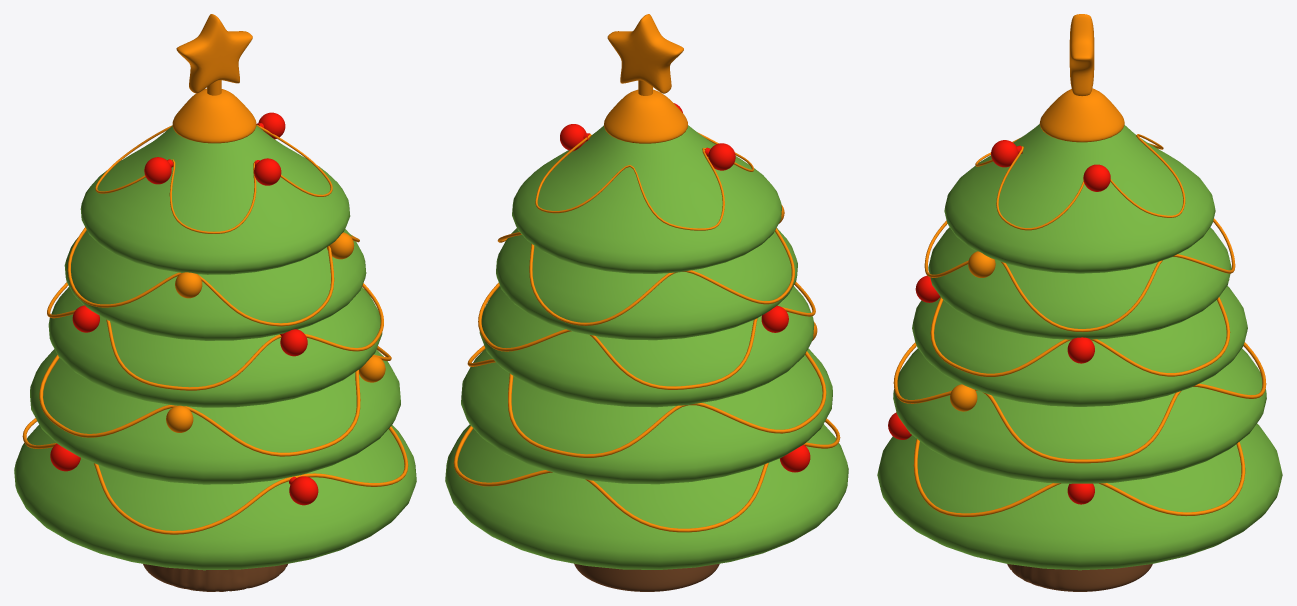
The model's file is Tree1.fbx.
The picture shows the model from 3 angles, left to right: view 1: azimuth 30°, elevation 25°; view 2: azimuth 150°, elevation 25°; view 3: azimuth 270°, elevation 25°; orthographic projection.
Visible parts, largest first — view 1: Cylinder.001, Cylinder.007, Cylinder.003, Cylinder.004, Cylinder.005, Cylinder.015, Star.001, Cylinder, Circle.003, Circle, Circle.004, Circle.005 (+10 smaller); view 2: Cylinder.001, Cylinder.007, Cylinder.003, Cylinder.004, Cylinder.005, Cylinder.015, Star.001, Cylinder, Circle.003, Circle, Circle.004, Circle.005 (+5 smaller); view 3: Cylinder.001, Cylinder.007, Cylinder.003, Cylinder.004, Cylinder.005, Cylinder.015, Cylinder, Circle.003, Star.001, Circle, Circle.005, Circle.004 (+6 smaller).
Boxes of the visible parts, box(x1,y1,x2,y2) form: Cylinder.001: box(14, 425, 416, 570); Cylinder.007: box(80, 125, 350, 274); Cylinder.003: box(30, 349, 400, 484); Cylinder.004: box(48, 287, 382, 407); Cylinder.005: box(64, 229, 366, 340); Cylinder.015: box(172, 88, 256, 143); Star.001: box(176, 14, 252, 93); Cylinder: box(143, 564, 287, 591); Circle.003: box(39, 346, 391, 456); Circle: box(22, 418, 408, 534); Circle.004: box(47, 282, 383, 390); Circle.005: box(67, 227, 359, 326); Cylinder.001: box(445, 424, 848, 569); Cylinder.007: box(512, 125, 781, 273); Cylinder.003: box(461, 348, 832, 484); Cylinder.004: box(479, 286, 814, 407); Cylinder.005: box(496, 228, 797, 340); Cylinder.015: box(604, 89, 687, 143); Star.001: box(607, 14, 683, 93); Cylinder: box(574, 563, 719, 591); Circle.003: box(467, 345, 826, 457); Circle: box(453, 418, 840, 532); Circle.004: box(478, 282, 815, 389); Circle.005: box(497, 228, 794, 325); Cylinder.001: box(877, 423, 1282, 570); Cylinder.007: box(944, 124, 1215, 273); Cylinder.003: box(893, 348, 1266, 483); Cylinder.004: box(912, 286, 1247, 406); Cylinder.005: box(928, 227, 1231, 339); Cylinder.015: box(1039, 88, 1124, 142); Cylinder: box(1007, 564, 1152, 591); Circle.003: box(893, 342, 1266, 463); Star.001: box(1069, 14, 1094, 96); Circle: box(913, 439, 1245, 516); Circle.005: box(924, 218, 1235, 331); Circle.004: box(930, 297, 1230, 376).
Size of the model in its own units: 204 by 305 by 204.
